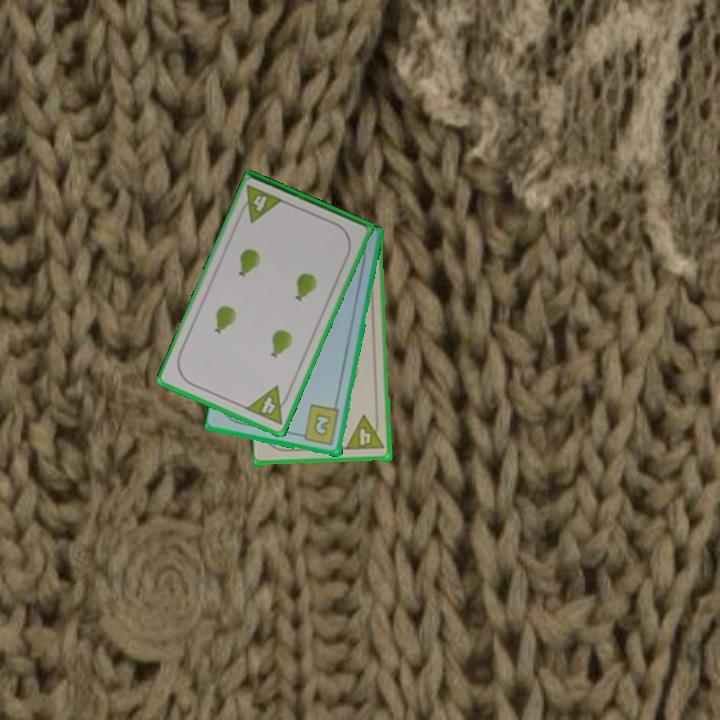2b: (295, 402, 342, 448)
4p: (242, 382, 294, 428), (235, 181, 287, 225), (343, 413, 387, 453)
